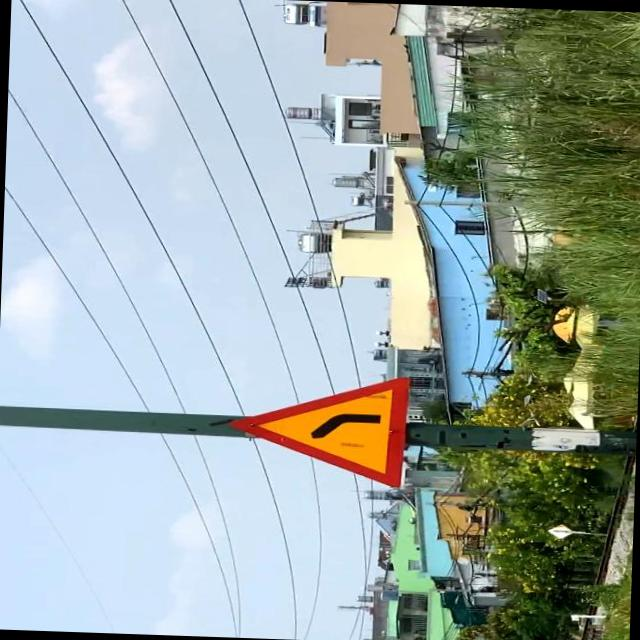W-201a: (224, 368, 414, 486)
